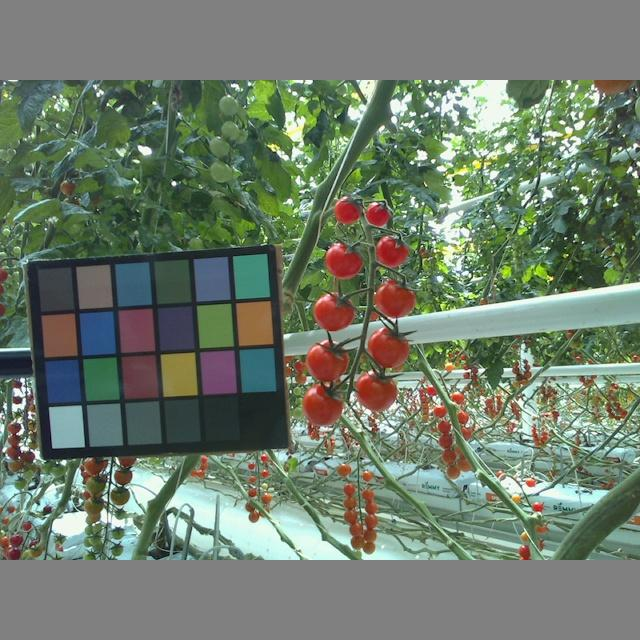green: (208, 158, 235, 185), (207, 134, 232, 158), (220, 92, 239, 115), (219, 121, 240, 139)
pink: (335, 461, 352, 477), (364, 499, 378, 515), (342, 508, 357, 522), (363, 527, 378, 541), (365, 514, 380, 528), (348, 536, 365, 548), (349, 523, 363, 537), (344, 495, 357, 510), (359, 470, 373, 482), (364, 543, 377, 555), (342, 484, 355, 495), (363, 485, 373, 498)
red: (303, 340, 350, 383), (367, 326, 411, 370), (311, 289, 356, 330), (300, 385, 344, 426), (323, 239, 365, 281), (354, 370, 397, 409), (373, 281, 418, 318), (373, 232, 407, 268), (332, 196, 365, 225), (363, 202, 391, 226)
